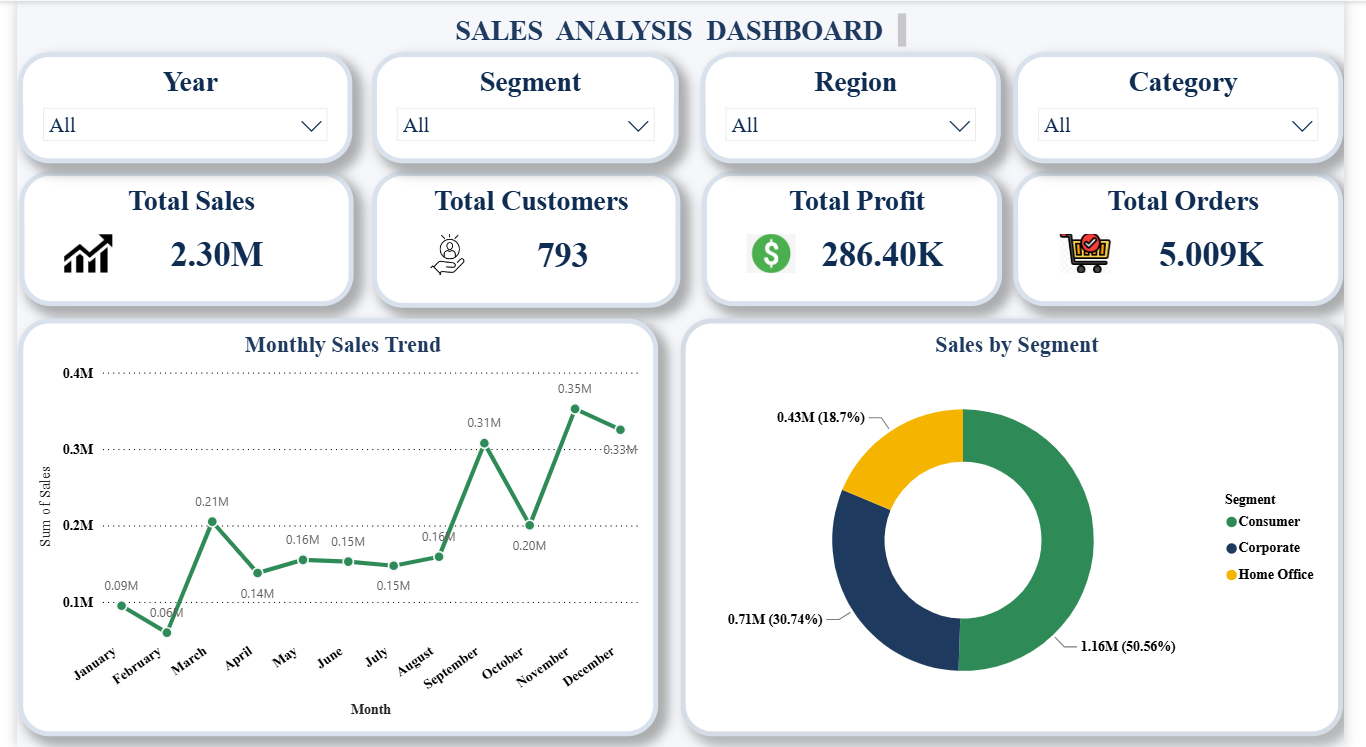

The page's visual inventory and layout, read from the dashboard file:
{"tool":"powerbi","page":{"name":"Executive Dashboard","canvas":[1280,720],"ordinal":0},"visuals":[{"type":"cardVisual","title":"Total Sales","fields":{"Data":["Sum(sales_dashboard_analysis superstore.Sales)"]},"box":[2.7,164.7,322.5,130.4],"z":0},{"type":"cardVisual","title":"Total Profit ","fields":{"Data":["Sum(sales_dashboard_analysis superstore.Profit)"]},"box":[661.4,164.7,289.5,130.4],"z":1000},{"type":"cardVisual","title":"Total Customers","fields":{"Data":["Count(sales_dashboard_analysis superstore.Customer_ID)"]},"box":[343.1,164.7,297.8,131.7],"z":2000},{"type":"textbox","box":[410.3,0,452.8,49.4],"z":3000},{"type":"cardVisual","title":"Total Orders","fields":{"Data":["Count(sales_dashboard_analysis superstore.Order_ID)"]},"box":[961.9,164.7,318.4,130.4],"z":4000},{"type":"slicer","title":"Year","fields":{"Values":["sales_dashboard_analysis superstore.Order_Date.Variation.Date Hierarchy.Year"]},"box":[1.4,49.4,322.5,107],"z":5000},{"type":"slicer","title":"Region","fields":{"Values":["sales_dashboard_analysis superstore.Region"]},"box":[660,49.4,289.5,107],"z":6000},{"type":"slicer","title":"Category","fields":{"Values":["sales_dashboard_analysis superstore.Category"]},"box":[961.9,49.4,318.4,107],"z":7000},{"type":"slicer","title":"Segment","fields":{"Values":["sales_dashboard_analysis superstore.Segment"]},"box":[343.1,49.4,296.4,107],"z":8000},{"type":"lineChart","title":"Monthly Sales Trend","fields":{"Category":["sales_dashboard_analysis superstore.Order_Date.Variation.Date Hierarchy.Month"],"Y":["Sum(sales_dashboard_analysis superstore.Sales)"]},"box":[1.4,306,617.5,403.4],"z":9000},{"type":"donutChart","title":"Sales by Segment","fields":{"Category":["sales_dashboard_analysis superstore.Segment"],"Y":["Sum(sales_dashboard_analysis superstore.Sales)"]},"box":[640.8,306,639.5,403.4],"z":10000}]}

Visuals, with their boxes in screenshot pixels (x1, y1, x2, y2), scaled from the page's 1280x720 canvas onto the 1366x747 screenshot:
"Total Sales" cardVisual: rect(3, 171, 347, 306)
"Total Profit " cardVisual: rect(706, 171, 1015, 306)
"Total Customers" cardVisual: rect(366, 171, 684, 308)
textbox: rect(438, 0, 921, 51)
"Total Orders" cardVisual: rect(1027, 171, 1365, 306)
"Year" slicer: rect(1, 51, 346, 162)
"Region" slicer: rect(704, 51, 1013, 162)
"Category" slicer: rect(1027, 51, 1365, 162)
"Segment" slicer: rect(366, 51, 682, 162)
"Monthly Sales Trend" lineChart: rect(1, 317, 660, 736)
"Sales by Segment" donutChart: rect(684, 317, 1365, 736)
